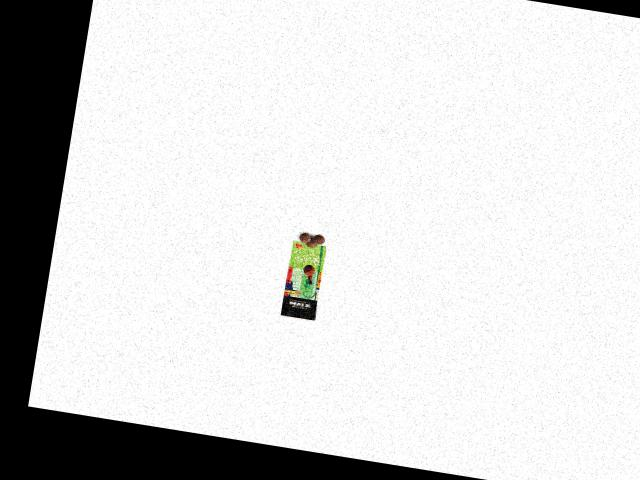chocolate: (274, 238, 335, 325)
